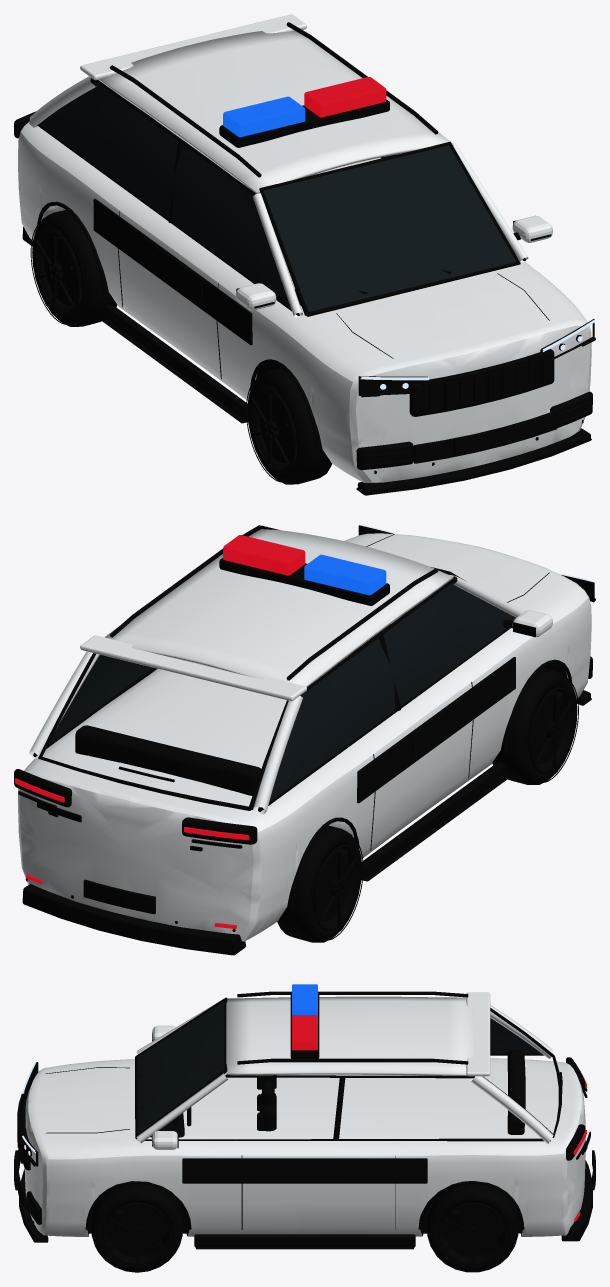
The model's file is police.glb.
The picture shows the model from 3 angles, top to bottom: view 1: azimuth 30°, elevation 25°; view 2: azimuth 150°, elevation 25°; view 3: azimuth 270°, elevation 25°; orthographic projection. The views are drawn at different scales.
Parts seen in each view (by area): view 1: chassis.001__Automotive clearcoat, chassis.001__Solar glass, chassis.001__Vehicle detail atlas, wheel_FL.001__Vehicle detail atlas, wheel_RL.001__Vehicle detail atlas, chassis.001__Police blue LED, chassis.001__Red LED optics; view 2: chassis.001__Automotive clearcoat, chassis.001__Vehicle detail atlas, chassis.001__Solar glass, wheel_RL.001__Vehicle detail atlas, wheel_FL.001__Vehicle detail atlas, chassis.001__Red LED optics, chassis.001__Police blue LED; view 3: chassis.001__Automotive clearcoat, chassis.001__Vehicle detail atlas, chassis.001__Solar glass, wheel_RR.001__Vehicle detail atlas, wheel_FR.001__Vehicle detail atlas, chassis.001__Red LED optics, chassis.001__Police blue LED.
Part boxes in pixels (box(x1,y1,x2,y2)): chassis.001__Automotive clearcoat: box(18, 14, 591, 483); chassis.001__Solar glass: box(40, 82, 516, 314); chassis.001__Vehicle detail atlas: box(14, 22, 594, 495); wheel_FL.001__Vehicle detail atlas: box(246, 367, 331, 484); wheel_RL.001__Vehicle detail atlas: box(30, 210, 117, 326); chassis.001__Police blue LED: box(223, 96, 305, 137); chassis.001__Red LED optics: box(304, 77, 386, 117); chassis.001__Automotive clearcoat: box(18, 529, 591, 941); chassis.001__Vehicle detail atlas: box(14, 525, 594, 955); chassis.001__Solar glass: box(49, 582, 515, 801); wheel_RL.001__Vehicle detail atlas: box(277, 825, 363, 942); wheel_FL.001__Vehicle detail atlas: box(492, 668, 578, 784); chassis.001__Red LED optics: box(14, 535, 305, 928); chassis.001__Police blue LED: box(304, 554, 386, 595); chassis.001__Automotive clearcoat: box(24, 992, 585, 1236); chassis.001__Vehicle detail atlas: box(14, 991, 595, 1249); chassis.001__Solar glass: box(137, 1001, 540, 1134); wheel_RR.001__Vehicle detail atlas: box(427, 1184, 518, 1272); wheel_FR.001__Vehicle detail atlas: box(91, 1183, 182, 1272); chassis.001__Red LED optics: box(292, 1015, 586, 1221); chassis.001__Police blue LED: box(292, 984, 317, 1015).
Bounding box in the file's own units: 2.18 × 1.85 × 4.63.
Materials: 9 (7 with a texture image).
